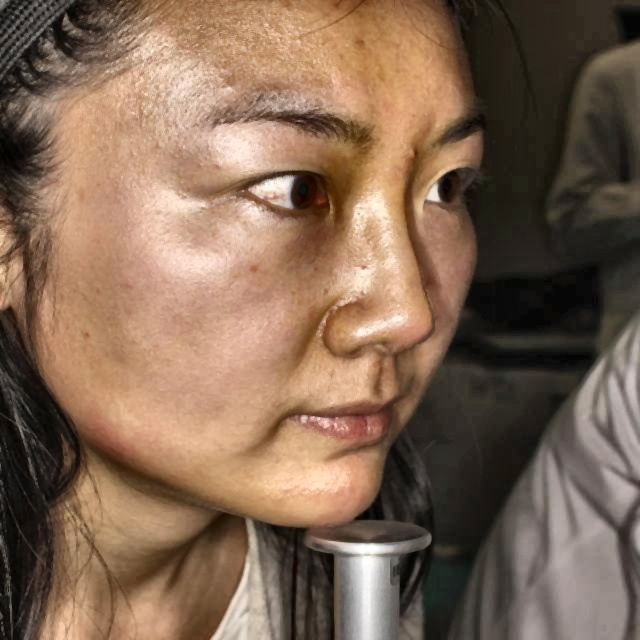comedone: (333, 479, 363, 504), (401, 144, 426, 164)
